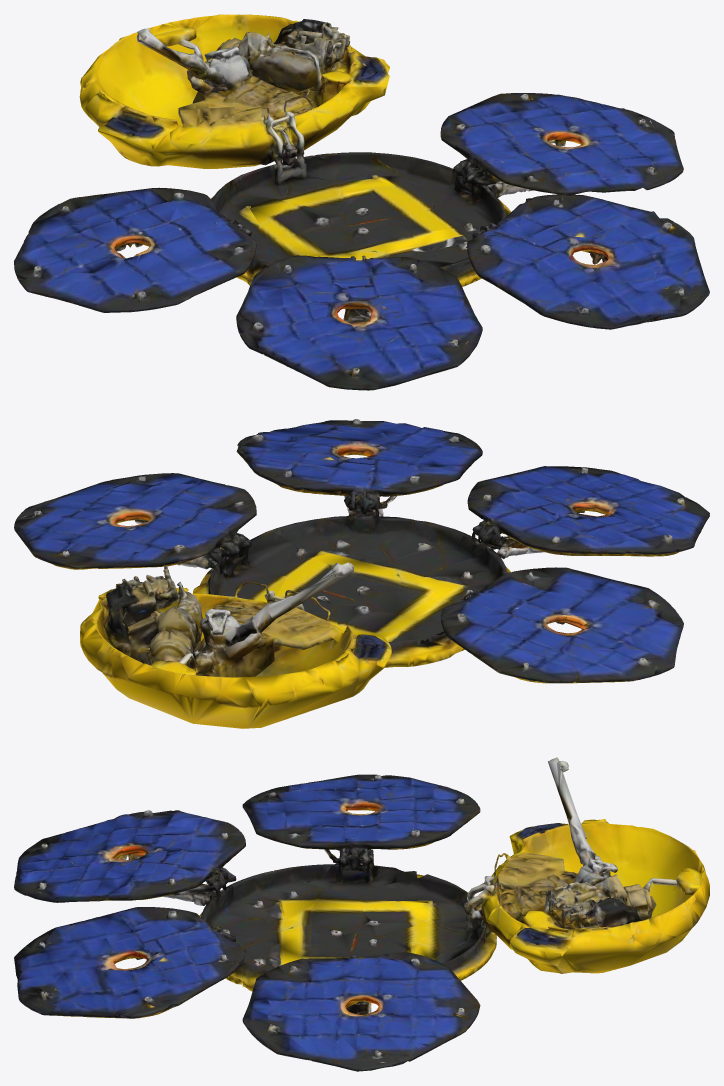
File: beagle2-low.glb
The picture shows the model from 3 angles, top to bottom: view 1: azimuth 30°, elevation 25°; view 2: azimuth 150°, elevation 25°; view 3: azimuth 270°, elevation 25°; orthographic projection. The views are drawn at different scales.
Bounding box in the file's own units: 1.9 × 0.4477 × 1.89.
Materials: 1 (1 with a texture image).
